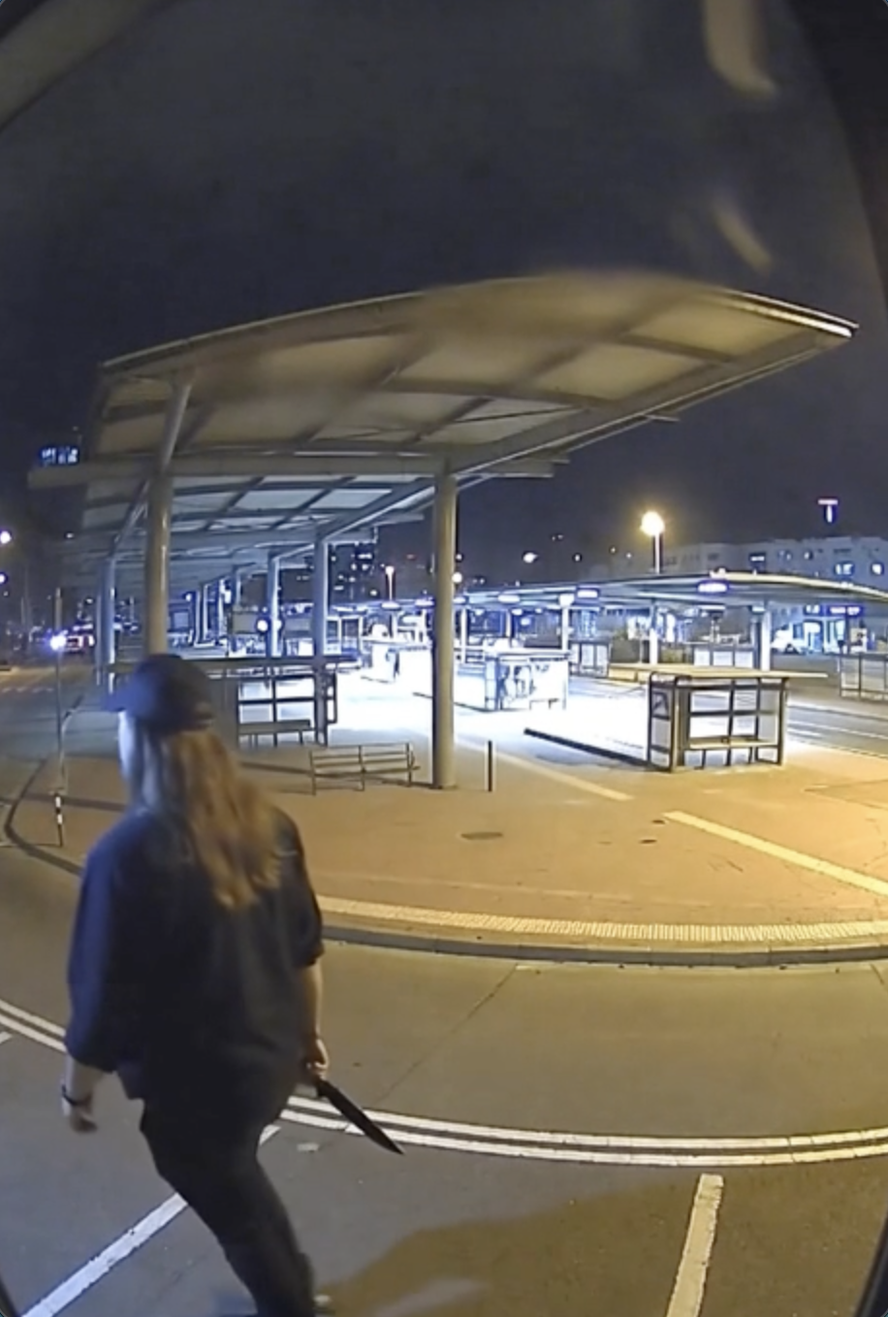Heavy Gun: (41, 645, 408, 1317)
Knife: (287, 1034, 410, 1165)
